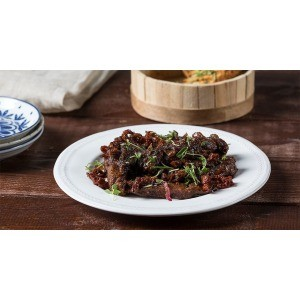liver_brain food: (101, 129, 234, 190)
